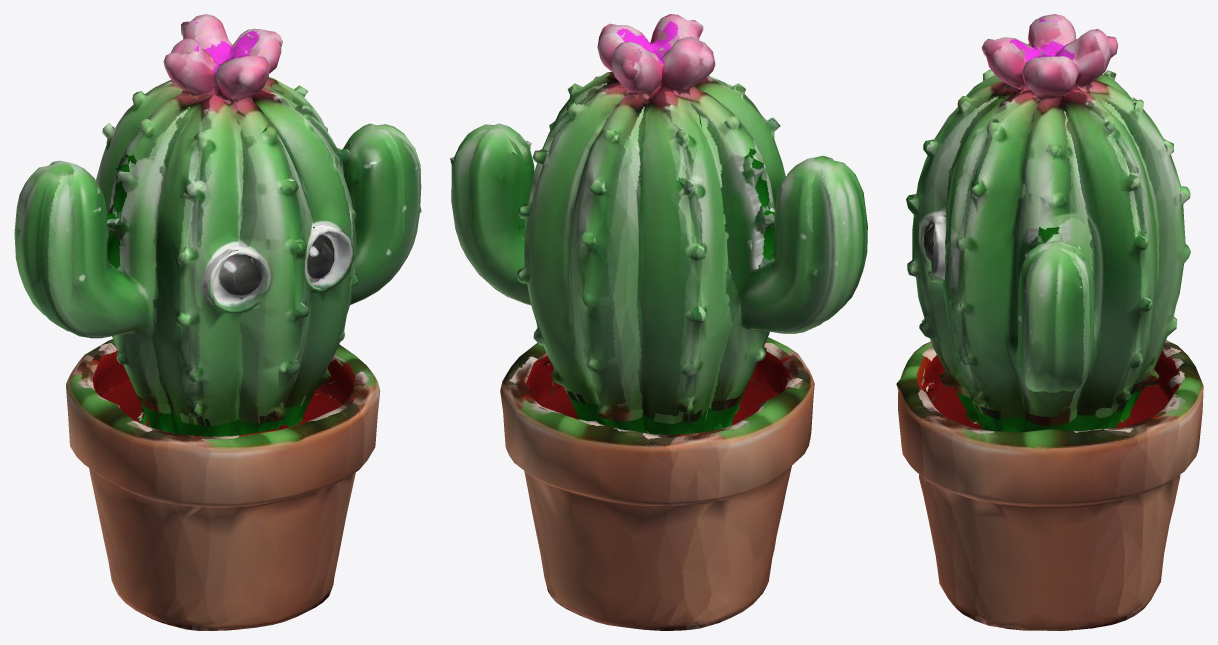
Rendered from cactus.glb.
3 views of the same model, side by side, from view 1: azimuth 30°, elevation 25°; view 2: azimuth 150°, elevation 25°; view 3: azimuth 270°, elevation 25° (orthographic).
Visible parts, largest first — view 1: Body; view 2: Body; view 3: Body.
Part boxes in pixels (x1,y1,x2,y2): Body: (14,14,421,630); Body: (450,14,867,630); Body: (896,14,1203,630).
Size of the model in its own units: 0.715 by 0.9569 by 0.4781.
Materials: 1 (1 with a texture image).
